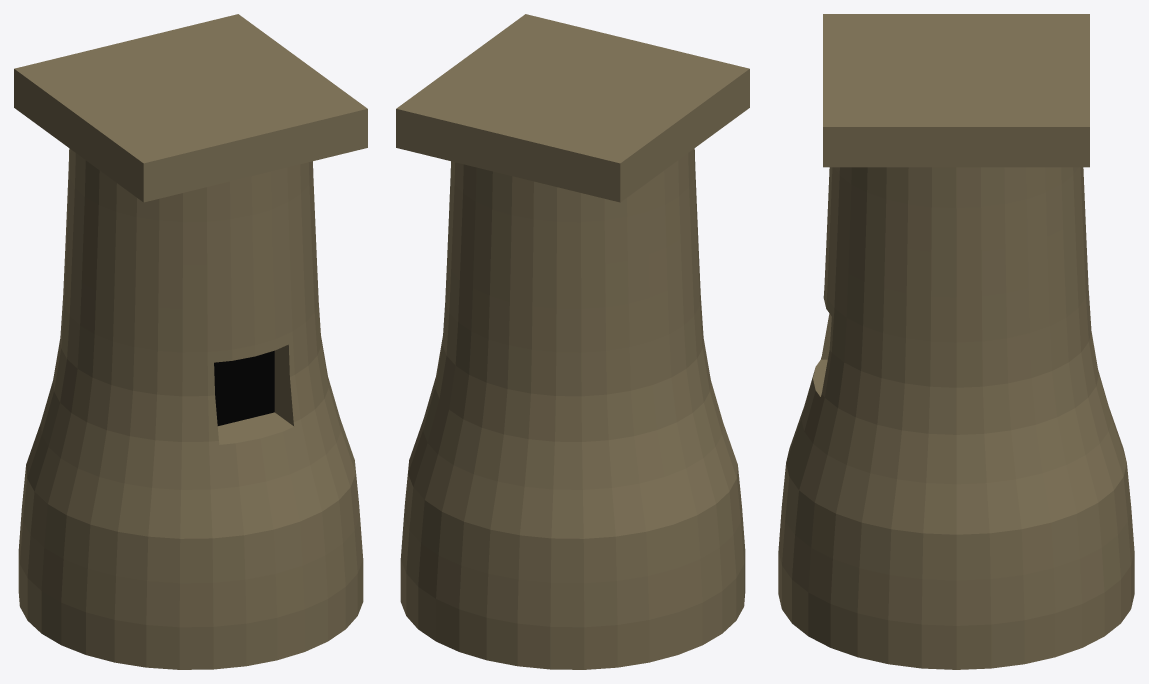
The model's file is Cheomseongdae.glb.
3 views of the same model, side by side, from view 1: azimuth 30°, elevation 25°; view 2: azimuth 150°, elevation 25°; view 3: azimuth 270°, elevation 25° (orthographic). The views are drawn at different scales.
Visible parts, largest first — view 1: Cube.001; view 2: Cube.001; view 3: Cube.001.
Part boxes in pixels (box(x1,y1,x2,y2)): Cube.001: box(14, 14, 367, 669); Cube.001: box(396, 14, 749, 669); Cube.001: box(778, 14, 1134, 669).
Bounding box in the file's own units: 2 × 3.25 × 2.
